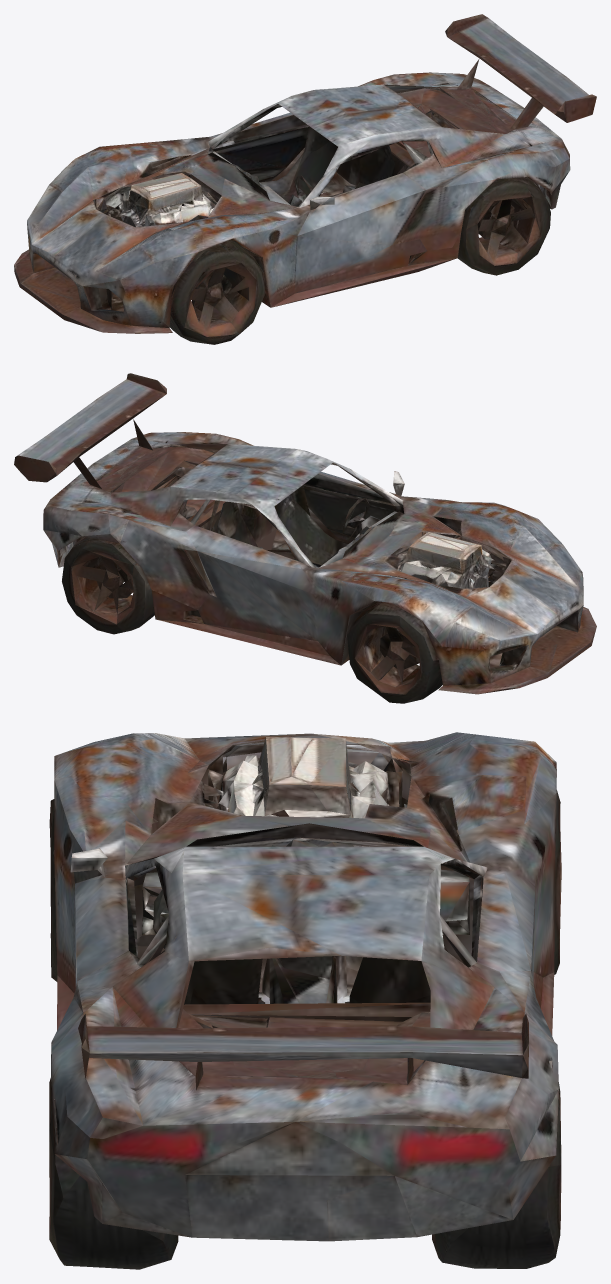
The model's file is redline-carcass.glb.
3 renders of one model, top to bottom at view 1: azimuth 30°, elevation 25°; view 2: azimuth 150°, elevation 25°; view 3: azimuth 270°, elevation 25°, orthographic. The views are drawn at different scales.
Size of the model in its own units: 1.89 by 0.5623 by 0.8405.
1 material, 1 textured.
